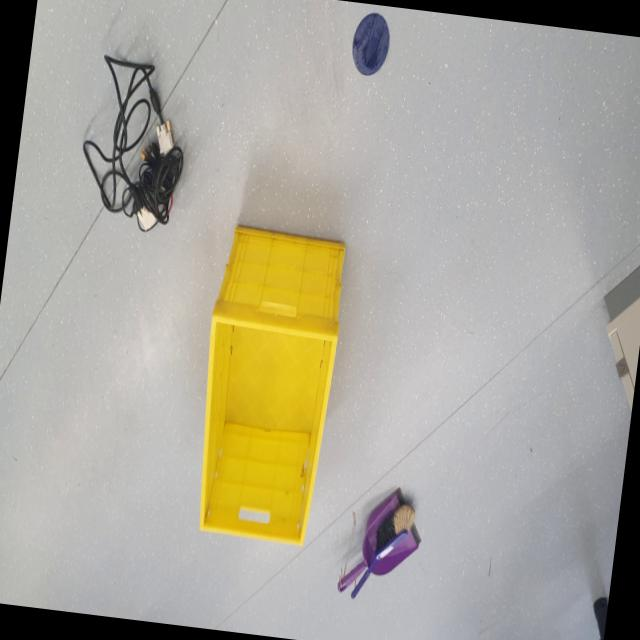box: (172, 201, 358, 576)
